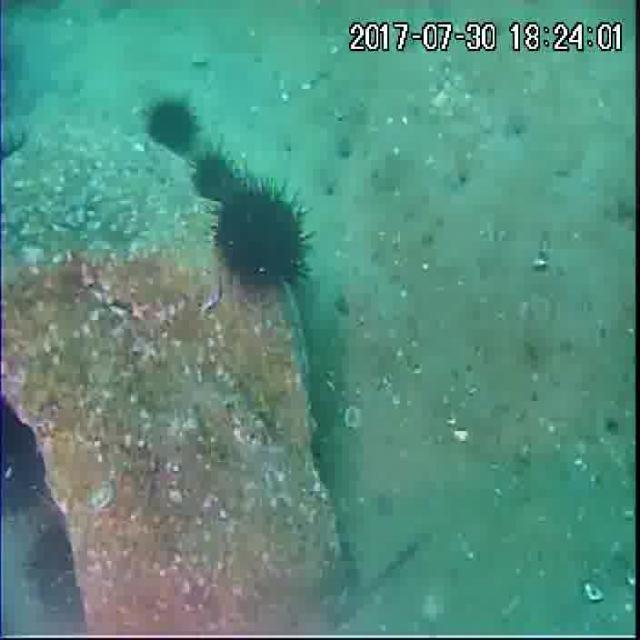echinus: (217, 182, 308, 291), (20, 520, 85, 626), (0, 400, 45, 506), (188, 143, 246, 209), (143, 98, 200, 154)
